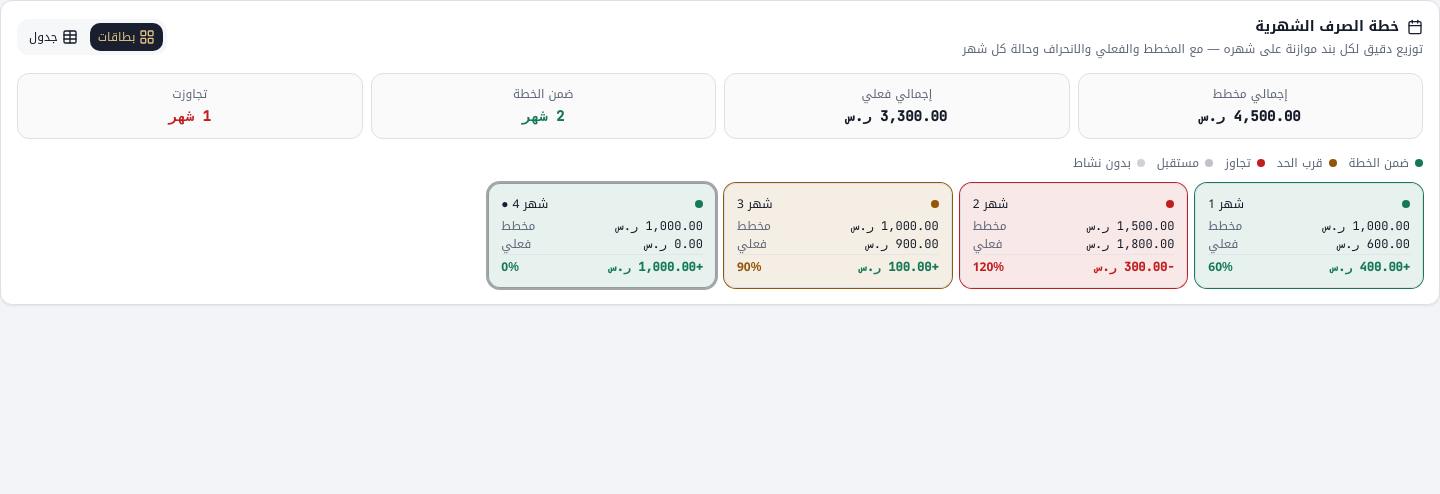
Test: the table › lists every month with its status and cash flow, and totals the columns
The width and height of the screenshot is (1440, 494).
Click the button "جدول": (53, 37) 21,23 -> 86,51
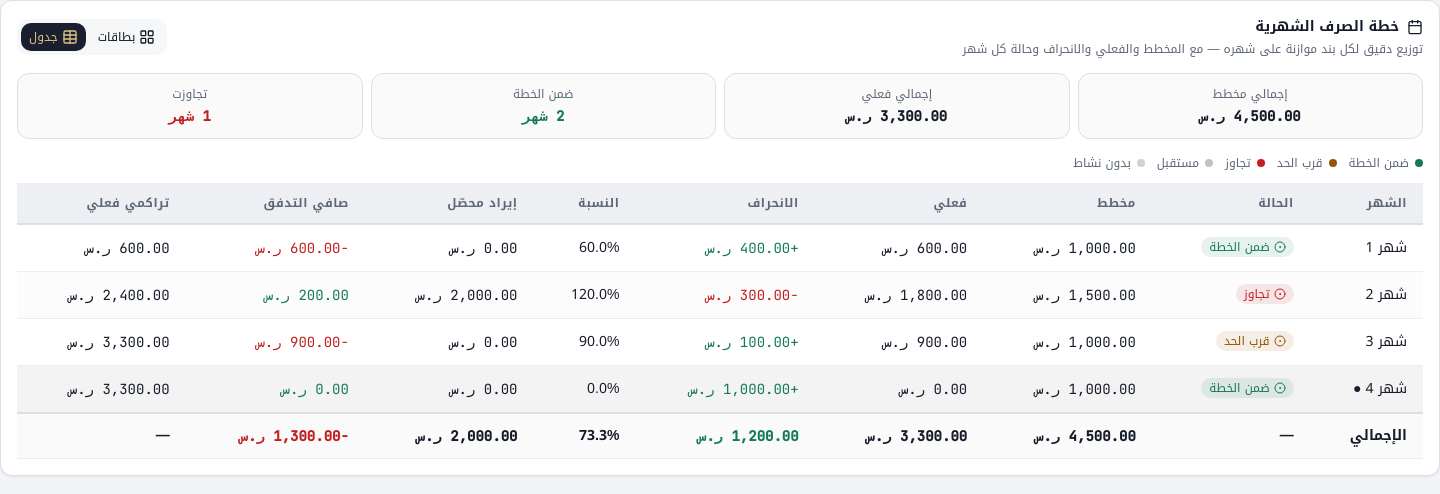
Now the cell "2,000.00 ر.س" in the row of "1,500.00 ر.س" is shown, box 417,286 -> 518,304
Now the cell "200.00 ر.س" is shown, box 186,272 -> 365,318
Now the cell "-1,300.00 ر.س" is shown, box 186,413 -> 365,458
